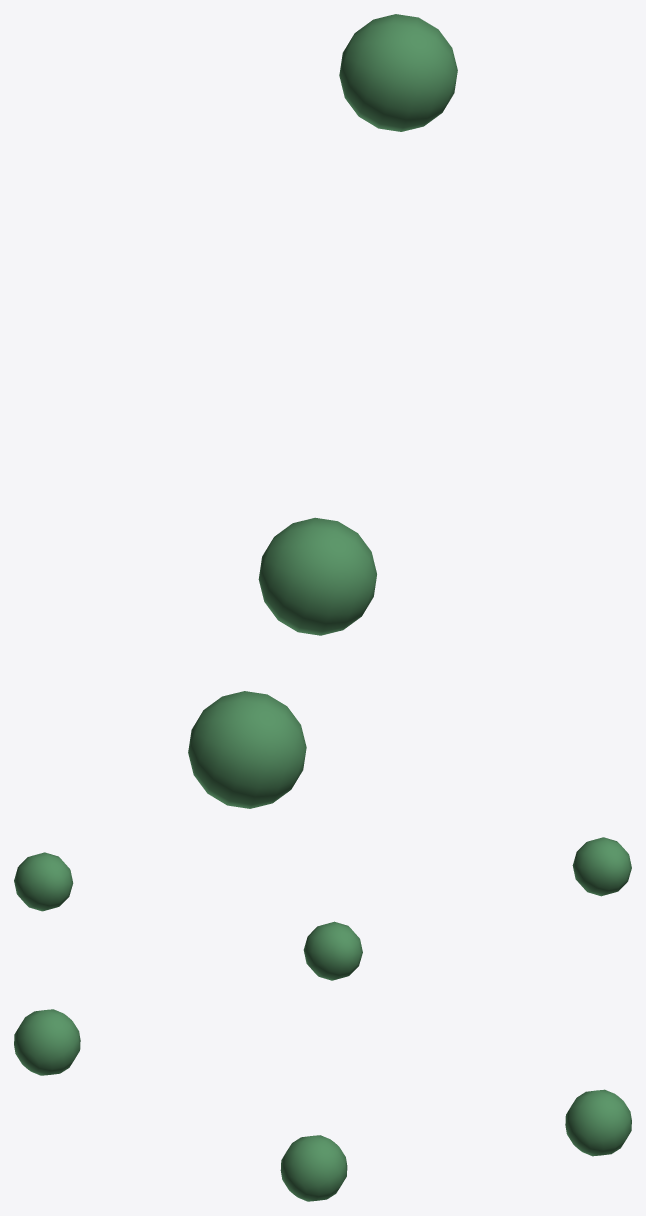
3 views of the same model, one above another, from view 1: azimuth 30°, elevation 25°; view 2: azimuth 150°, elevation 25°; view 3: azimuth 270°, elevation 25° (orthographic). The views are drawn at different scales.
Visible parts, largest first — view 1: 阑尾淋巴结; view 2: 阑尾淋巴结; view 3: 阑尾淋巴结.
Part boxes in pixels (bbox=[...]): 阑尾淋巴结: bbox=[188, 14, 457, 808]; 阑尾淋巴结: bbox=[14, 837, 631, 980]; 阑尾淋巴结: bbox=[14, 1009, 631, 1201].
Size of the model in its own units: 0.0274 by 0.0123 by 0.0349.
